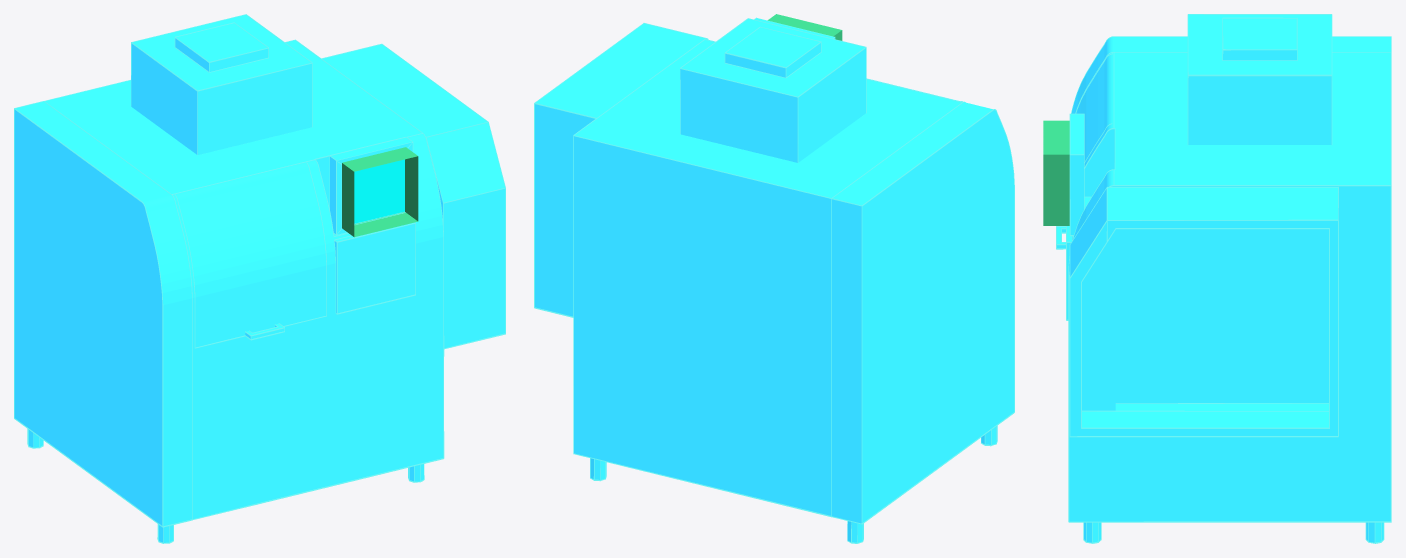
File: AOI.fbx
3 views of the same model, side by side, from view 1: azimuth 30°, elevation 25°; view 2: azimuth 150°, elevation 25°; view 3: azimuth 270°, elevation 25° (orthographic). The views are drawn at different scales.
Visible parts, largest first — view 1: 7, 框本体1_3; view 2: 7, 框本体1_3; view 3: 7, 框本体1_3.
Boxes of the visible parts, x1=… form: 7: x1=14, y1=14, x2=505, y2=543; 框本体1_3: x1=342, y1=147, x2=418, y2=237; 7: x1=534, y1=17, x2=1014, y2=543; 框本体1_3: x1=767, y1=14, x2=842, y2=40; 7: x1=1056, y1=14, x2=1391, y2=543; 框本体1_3: x1=1043, y1=120, x2=1069, y2=225.
Size of the model in its own units: 154 by 176 by 125.
Materials: 4 (1 with a texture image).
